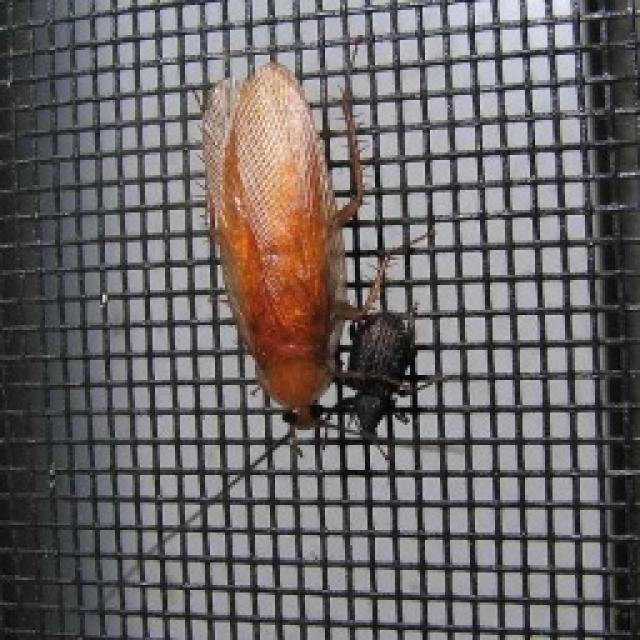cockroach: (192, 57, 439, 467)
